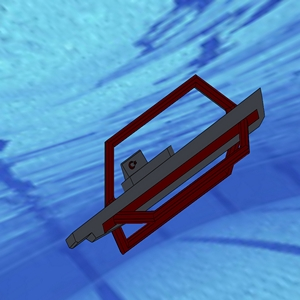submarine: (42, 61, 294, 274)
